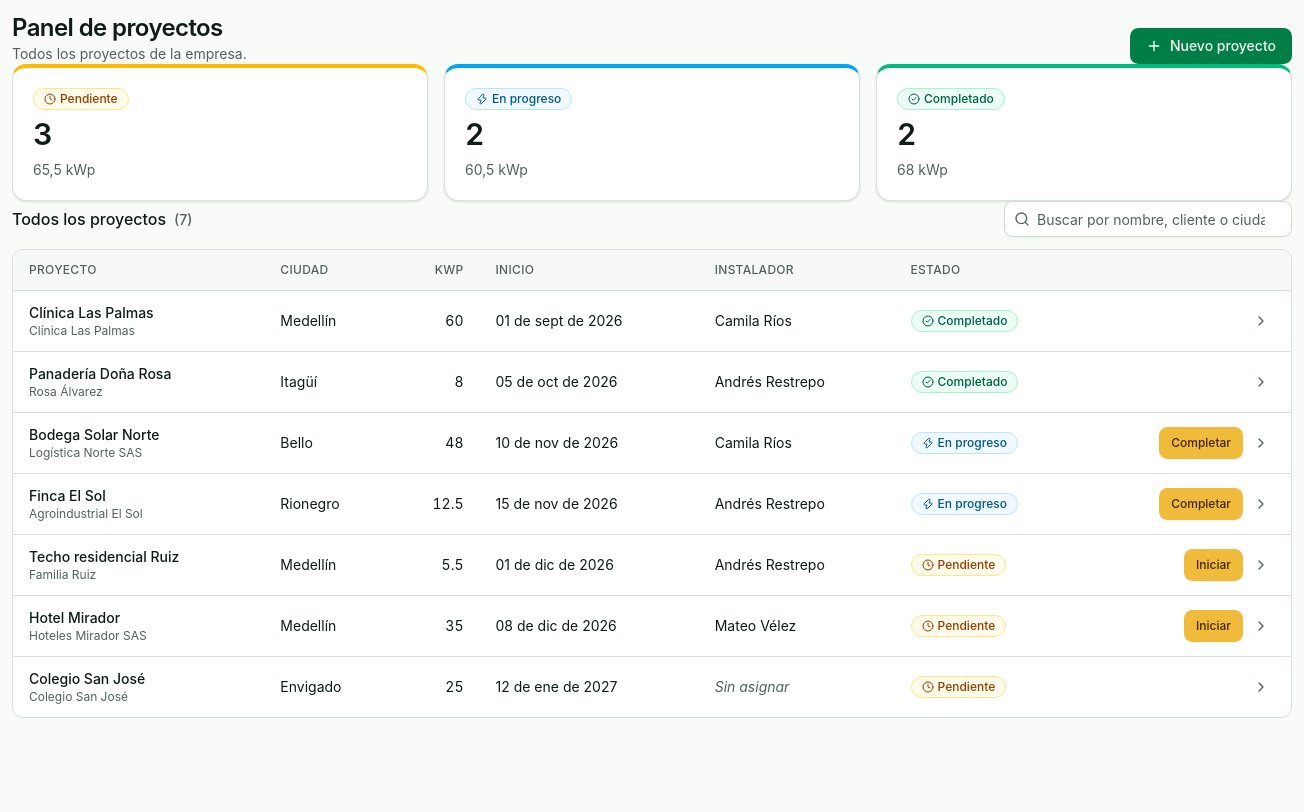
Test case: Dashboard (UI-01, UI-02, UI-03, UI-05, UI-07) › las tarjetas resumen filtran la tabla por estado
expect the link "Techo residencial Ruiz" is shown: met, box [29, 548, 179, 565]
expect the 2nd heading "2" is shown: met, box [897, 116, 916, 152]
Click the button with aria-label "Filtrar por Completado" at (1084, 132), box [876, 64, 1292, 201]
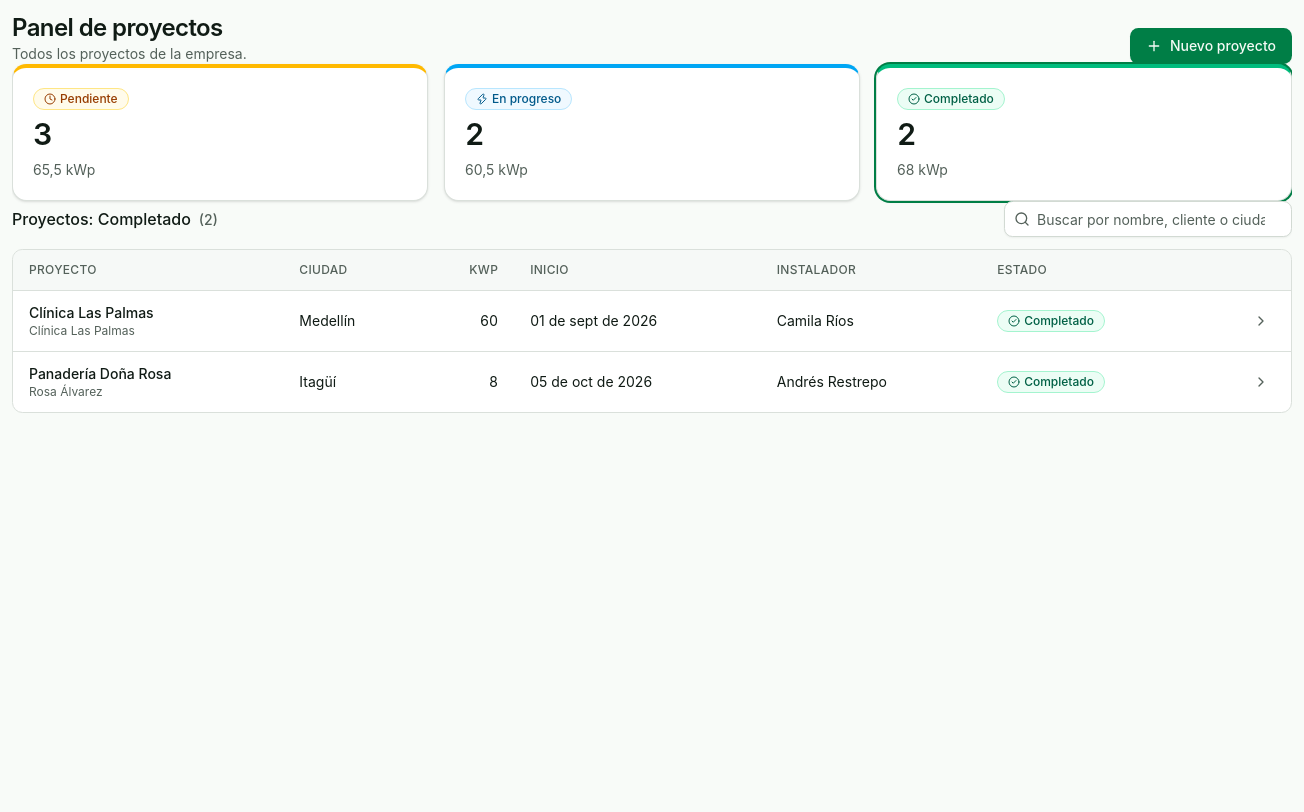
expect the heading "Proyectos: Completado(2)" is shown: met, box [12, 207, 218, 231]
